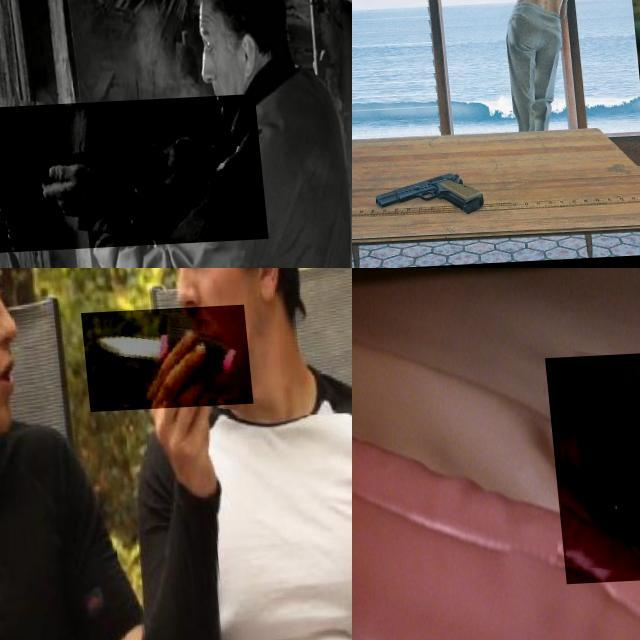-: (76, 310, 248, 416)
gun-knife-thesis - v11 Yolov5 augmented: (352, 0, 624, 157), (0, 98, 261, 255), (539, 353, 640, 586), (358, 166, 479, 222)
